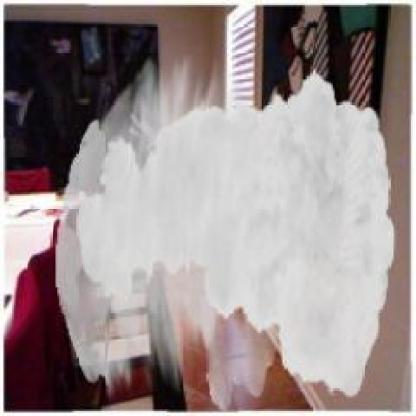Smoke: (56, 54, 395, 411)
